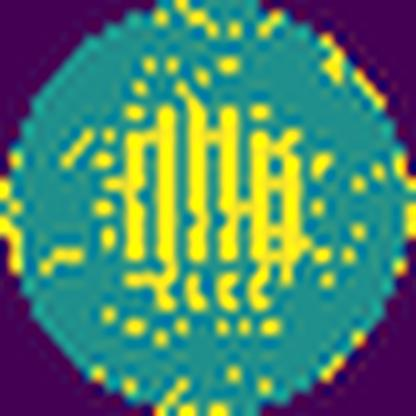Center: (102, 86, 310, 312)
